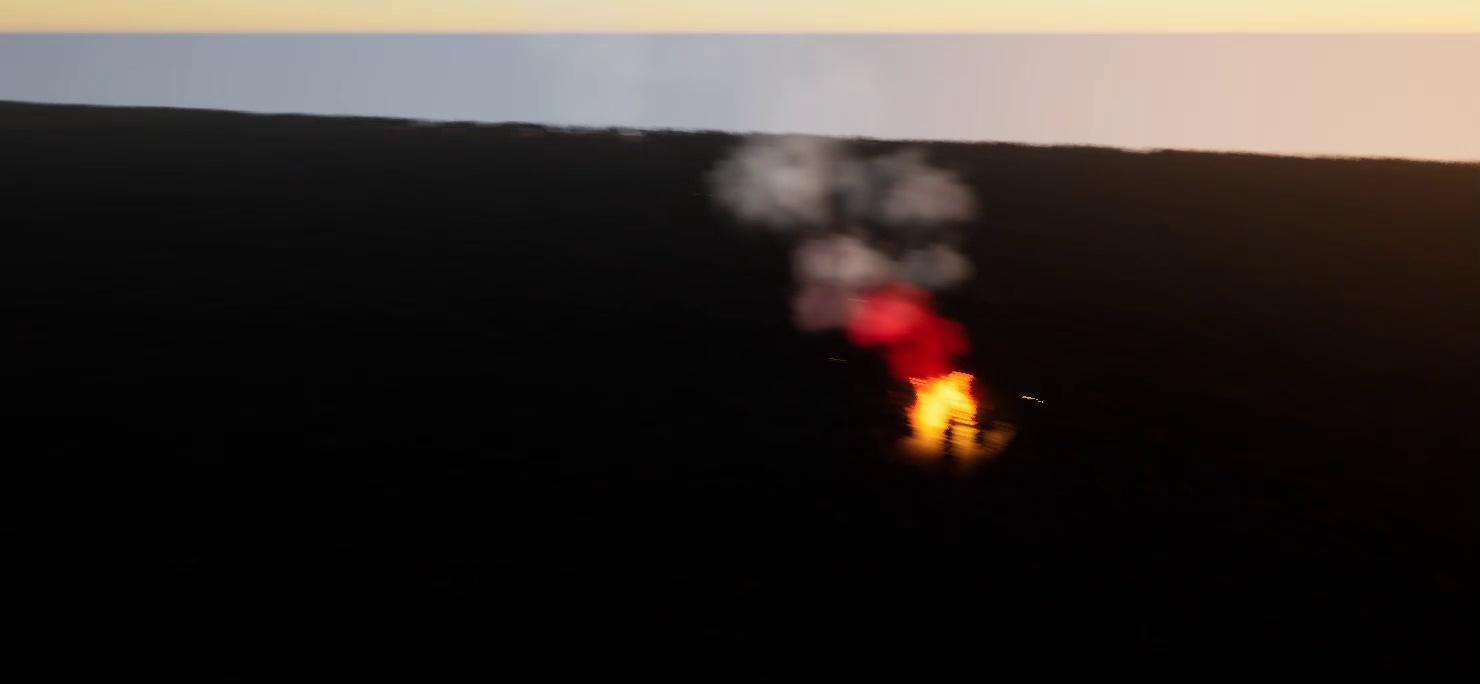fire: (895, 368, 991, 434)
smoke: (706, 128, 983, 372)
